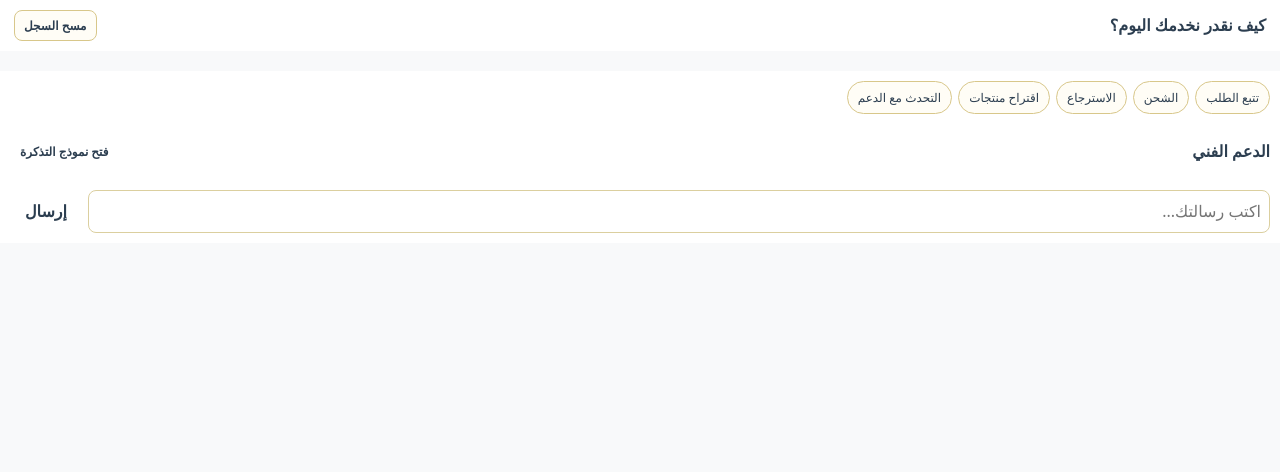
Test: ChatPanel chat flows › submits support ticket and shows ticket reference
Click the button "فتح نموذج التذكرة" at (64, 152), box left=10, top=134, right=118, bottom=170
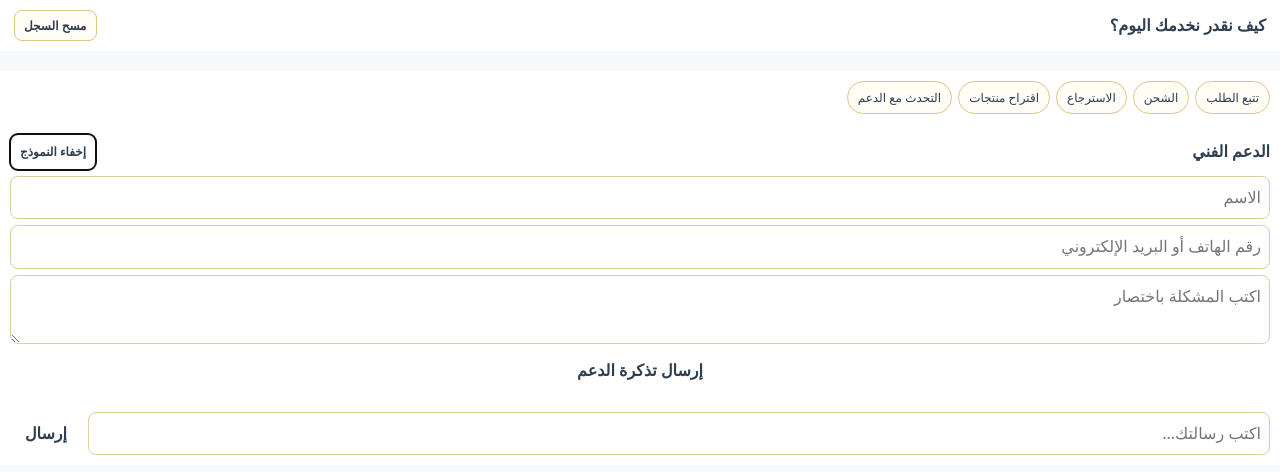
Type "أحمد" into the field with placeholder "الاسم" at (640, 197), box left=10, top=176, right=1270, bottom=219
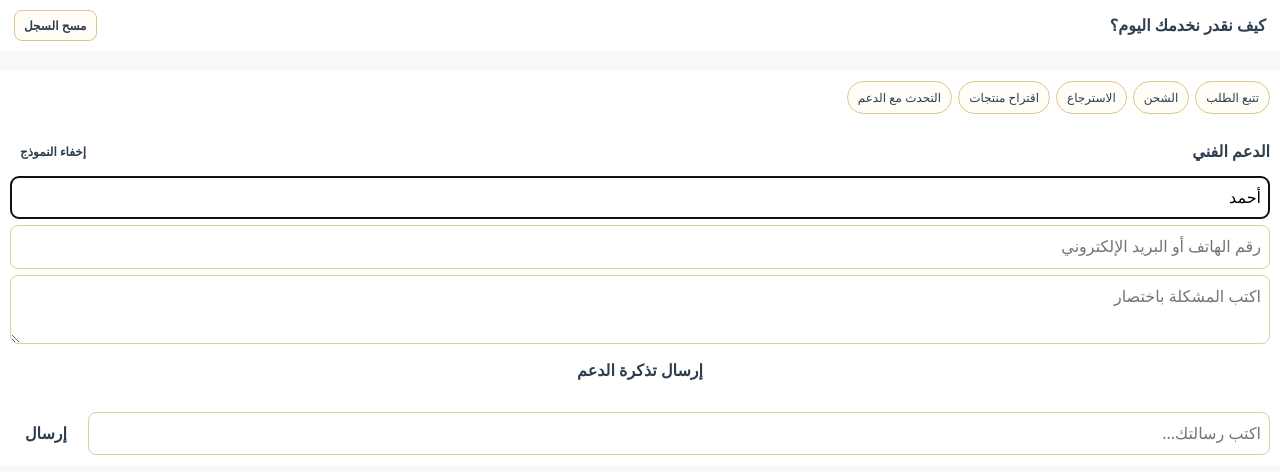
Type "0912345678" into the field with placeholder "رقم الهاتف أو البريد الإلكتروني" at (640, 247), box left=10, top=225, right=1270, bottom=269
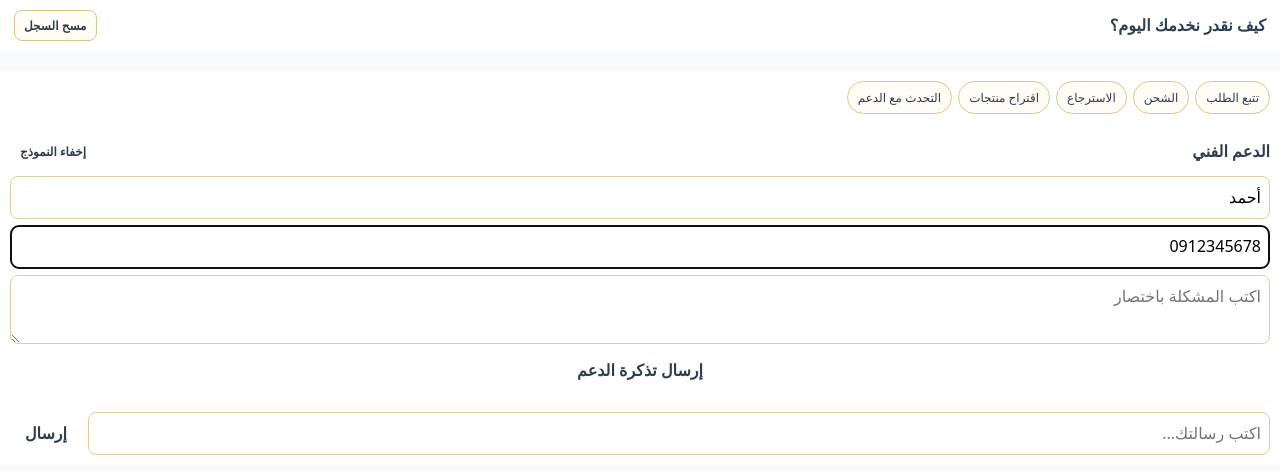
Type "الطلب تأخر أكثر من المتوقع" into the text box with placeholder "اكتب المشكلة باختصار" at (640, 309), box left=10, top=275, right=1270, bottom=344
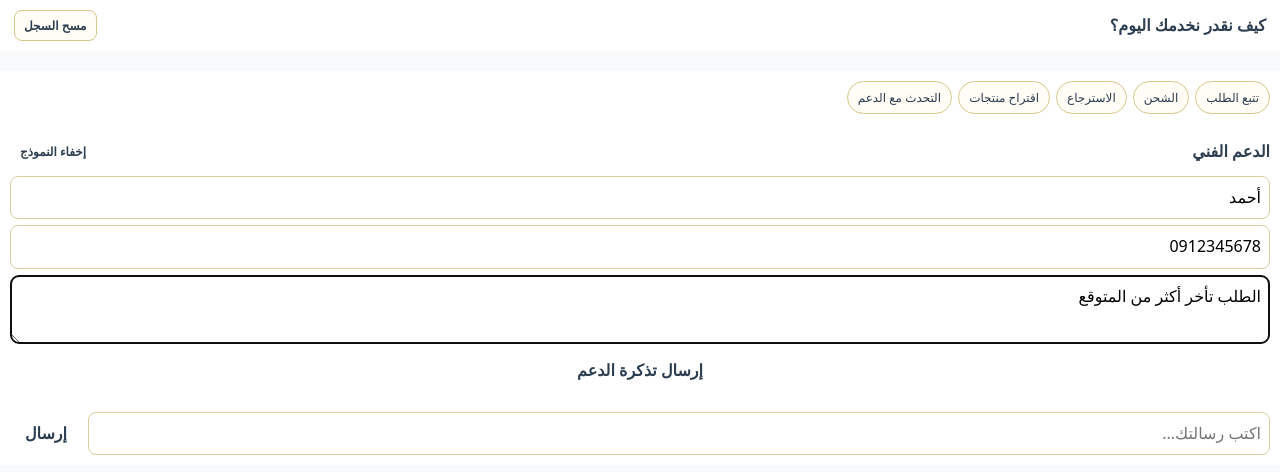
Click the button "إرسال تذكرة الدعم" at (640, 371), box left=10, top=350, right=1270, bottom=392
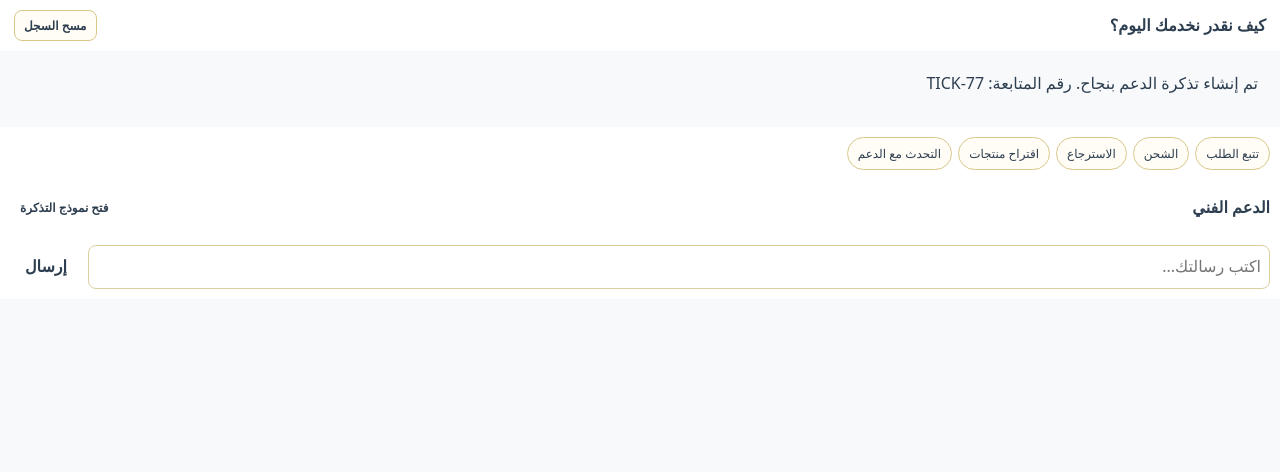
Check: the text "تم إنشاء تذكرة الدعم بنجاح. رقم المتابعة: TICK-77" is shown, box left=926, top=72, right=1258, bottom=94
